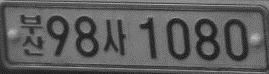0: (165, 17, 191, 60), (223, 18, 249, 61)
1: (136, 16, 161, 59)
8: (193, 17, 220, 60), (73, 15, 99, 57)
9: (45, 14, 70, 56)
부산_V: (19, 13, 45, 57)
사: (102, 18, 127, 56)
